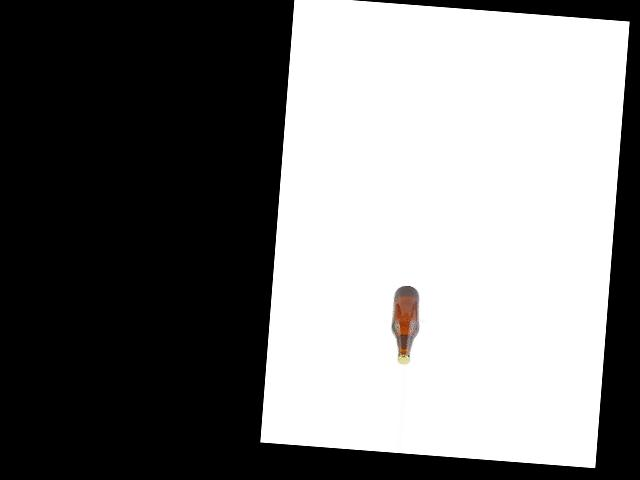beer: (389, 285, 420, 365)
